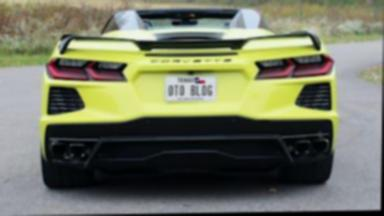License_Plate: (166, 75, 217, 101)
